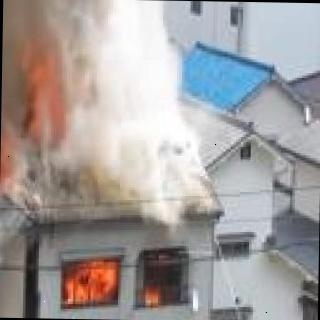fire: (0, 70, 70, 165), (60, 262, 170, 313), (0, 168, 35, 318)
